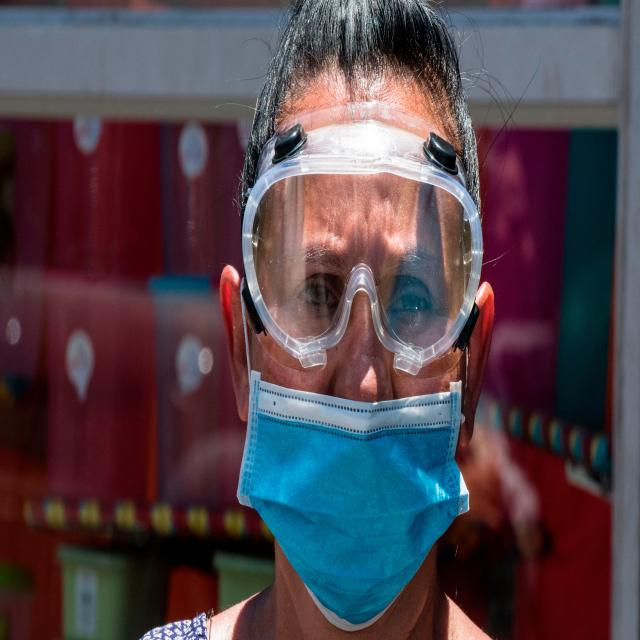Goggles: (241, 120, 484, 378)
Mask: (240, 370, 471, 629)
